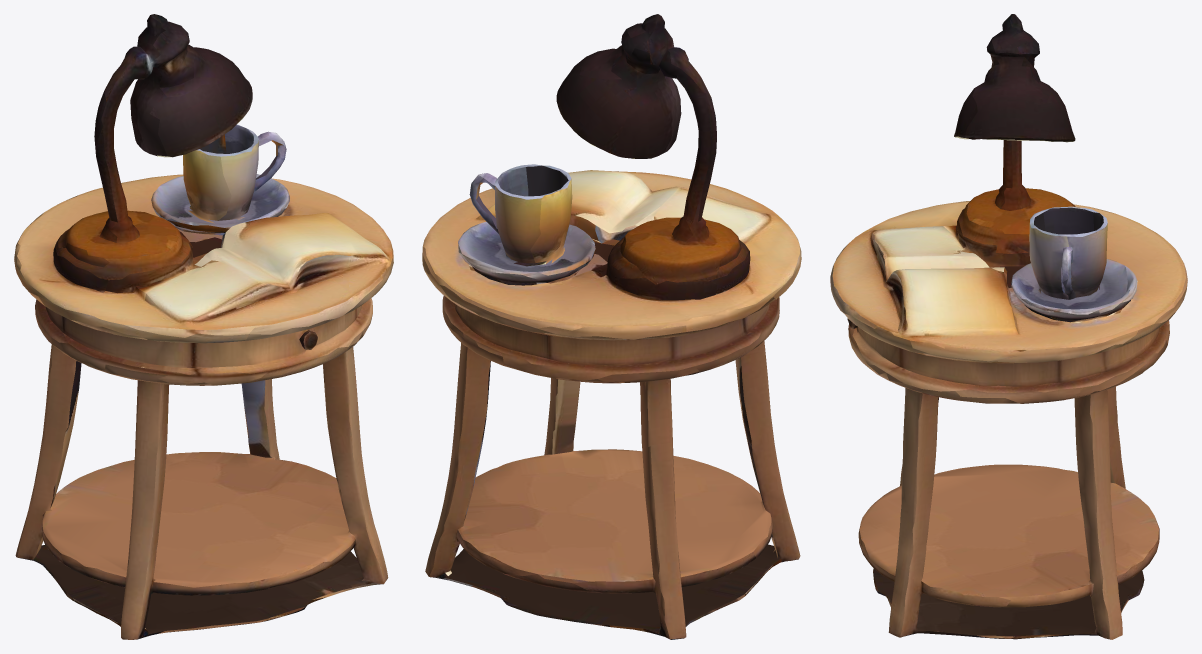
The model's file is side_table.glb.
3 renders of one model, left to right at view 1: azimuth 30°, elevation 25°; view 2: azimuth 150°, elevation 25°; view 3: azimuth 270°, elevation 25°, orthographic. The views are drawn at different scales.
Visible parts, largest first — view 1: side_table; view 2: side_table; view 3: side_table.
Part boxes in pixels (x1,y1,x2,y2): side_table: (14,14,393,639); side_table: (422,14,801,639); side_table: (830,14,1187,639).
Bounding box in the file's own units: 0.6055 × 1 × 0.5971.
Materials: 1 (1 with a texture image).
